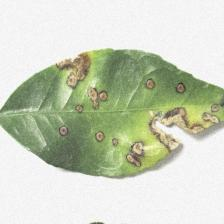canker: (50, 44, 224, 174)
